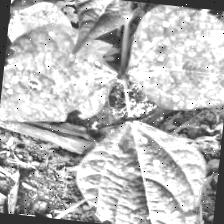Bean Rust: (74, 114, 211, 224), (0, 21, 124, 136), (124, 2, 224, 114)
